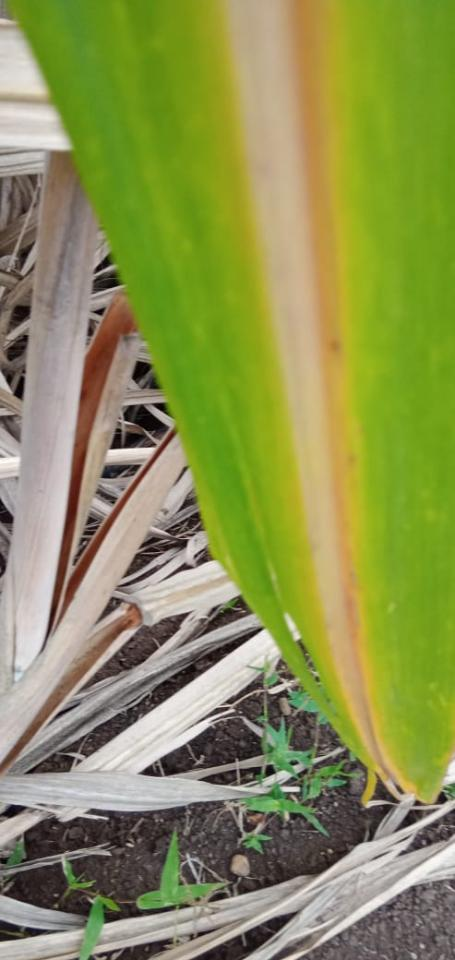Yellow: (288, 0, 418, 796)
